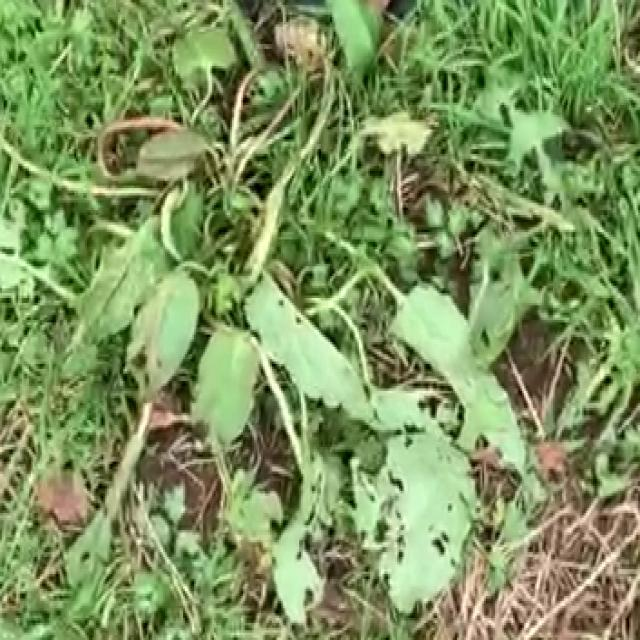organic waste: (27, 37, 586, 618)
